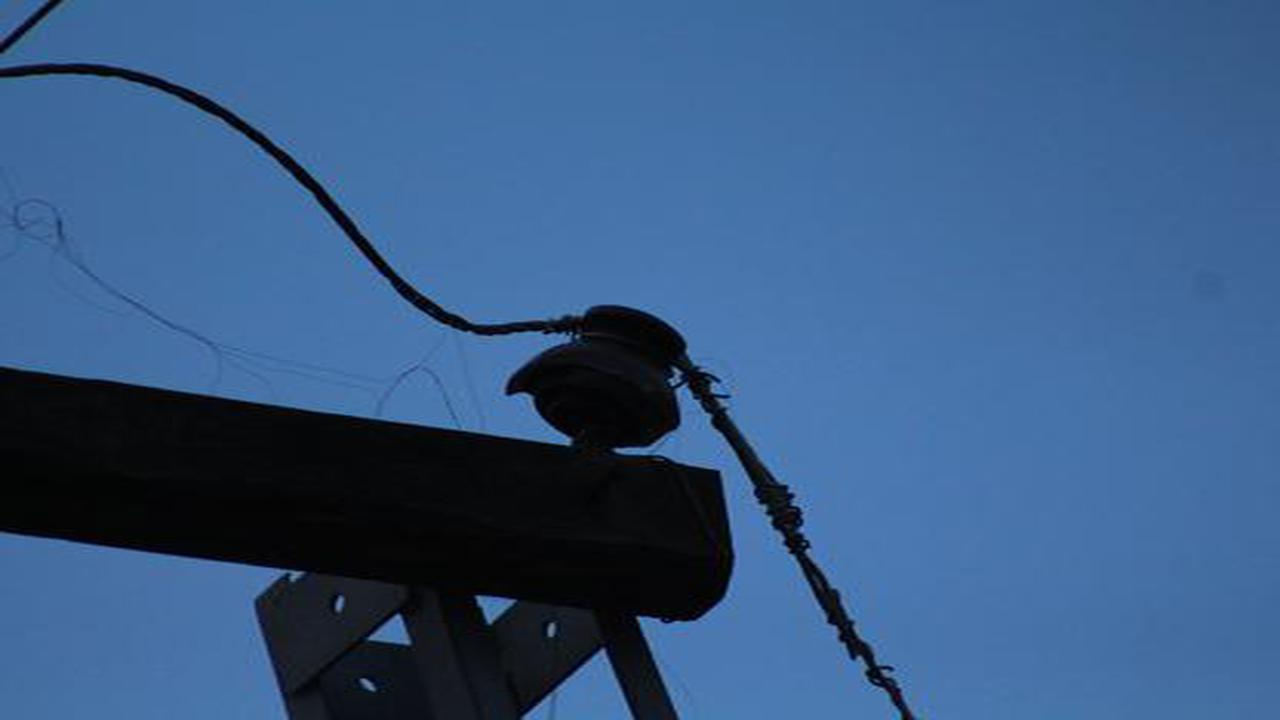defect_pin: (499, 296, 700, 459)
